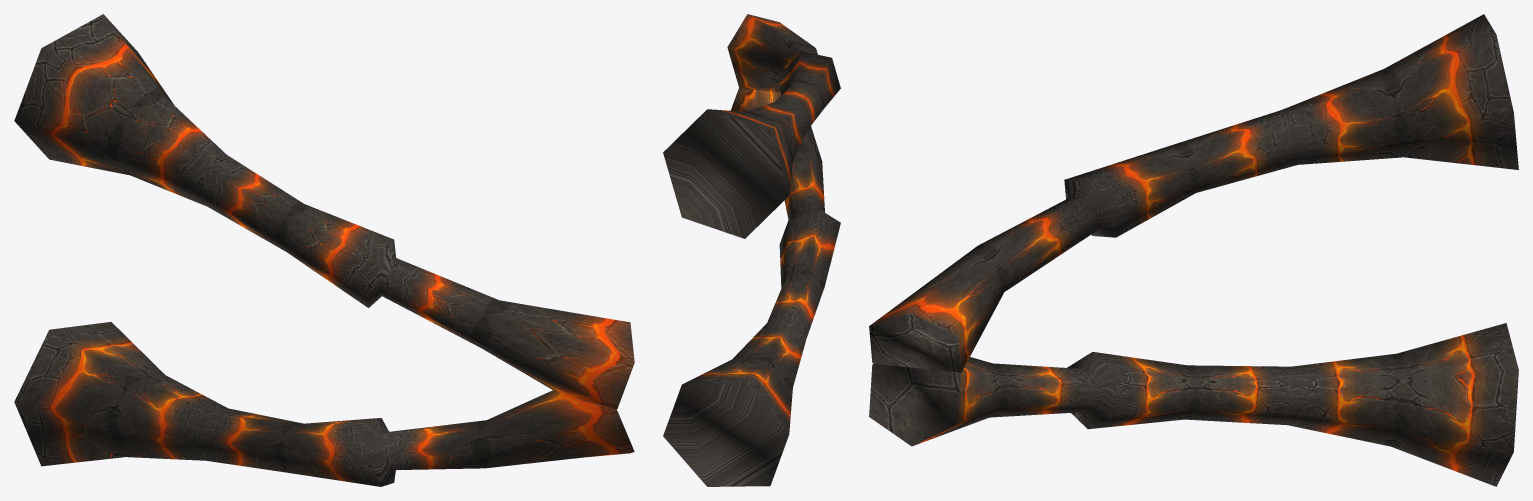
Rendered from rock-pillar_07.obj.
3 views of the same model, side by side, from view 1: azimuth 30°, elevation 25°; view 2: azimuth 150°, elevation 25°; view 3: azimuth 270°, elevation 25° (orthographic). The views are drawn at different scales.
Parts seen in each view (by area): view 1: (null); view 2: (null); view 3: (null).
Boxes of the visible parts, left/top/right/bottom form: (null): left=14, top=14, right=634, bottom=486; (null): left=663, top=14, right=840, bottom=486; (null): left=869, top=14, right=1518, bottom=486.
Bounding box in the file's own units: 6.14 × 7.81 × 10.17.
